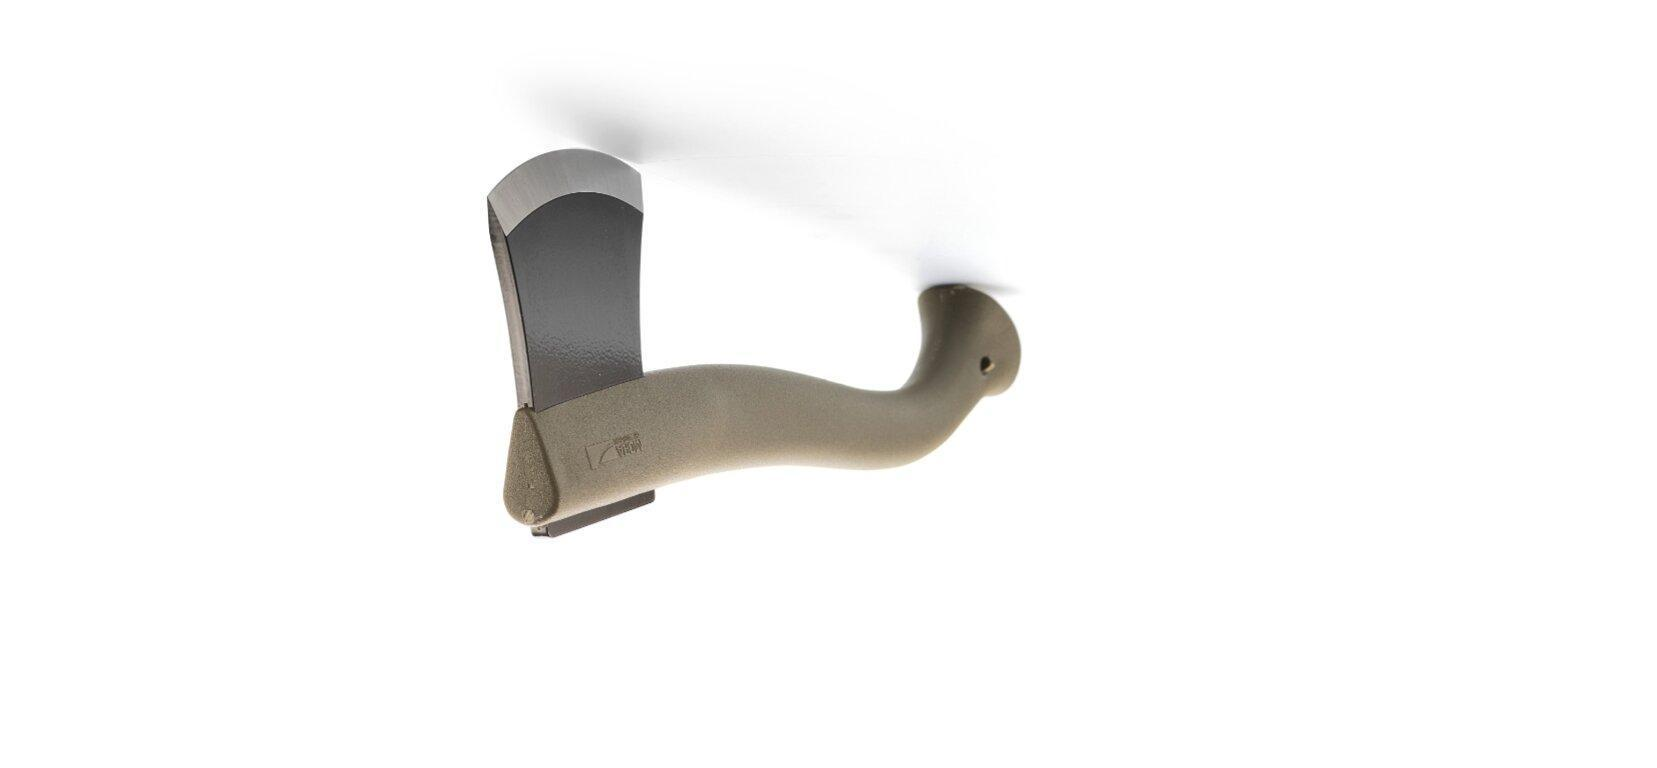machado: (488, 150, 1019, 536)
